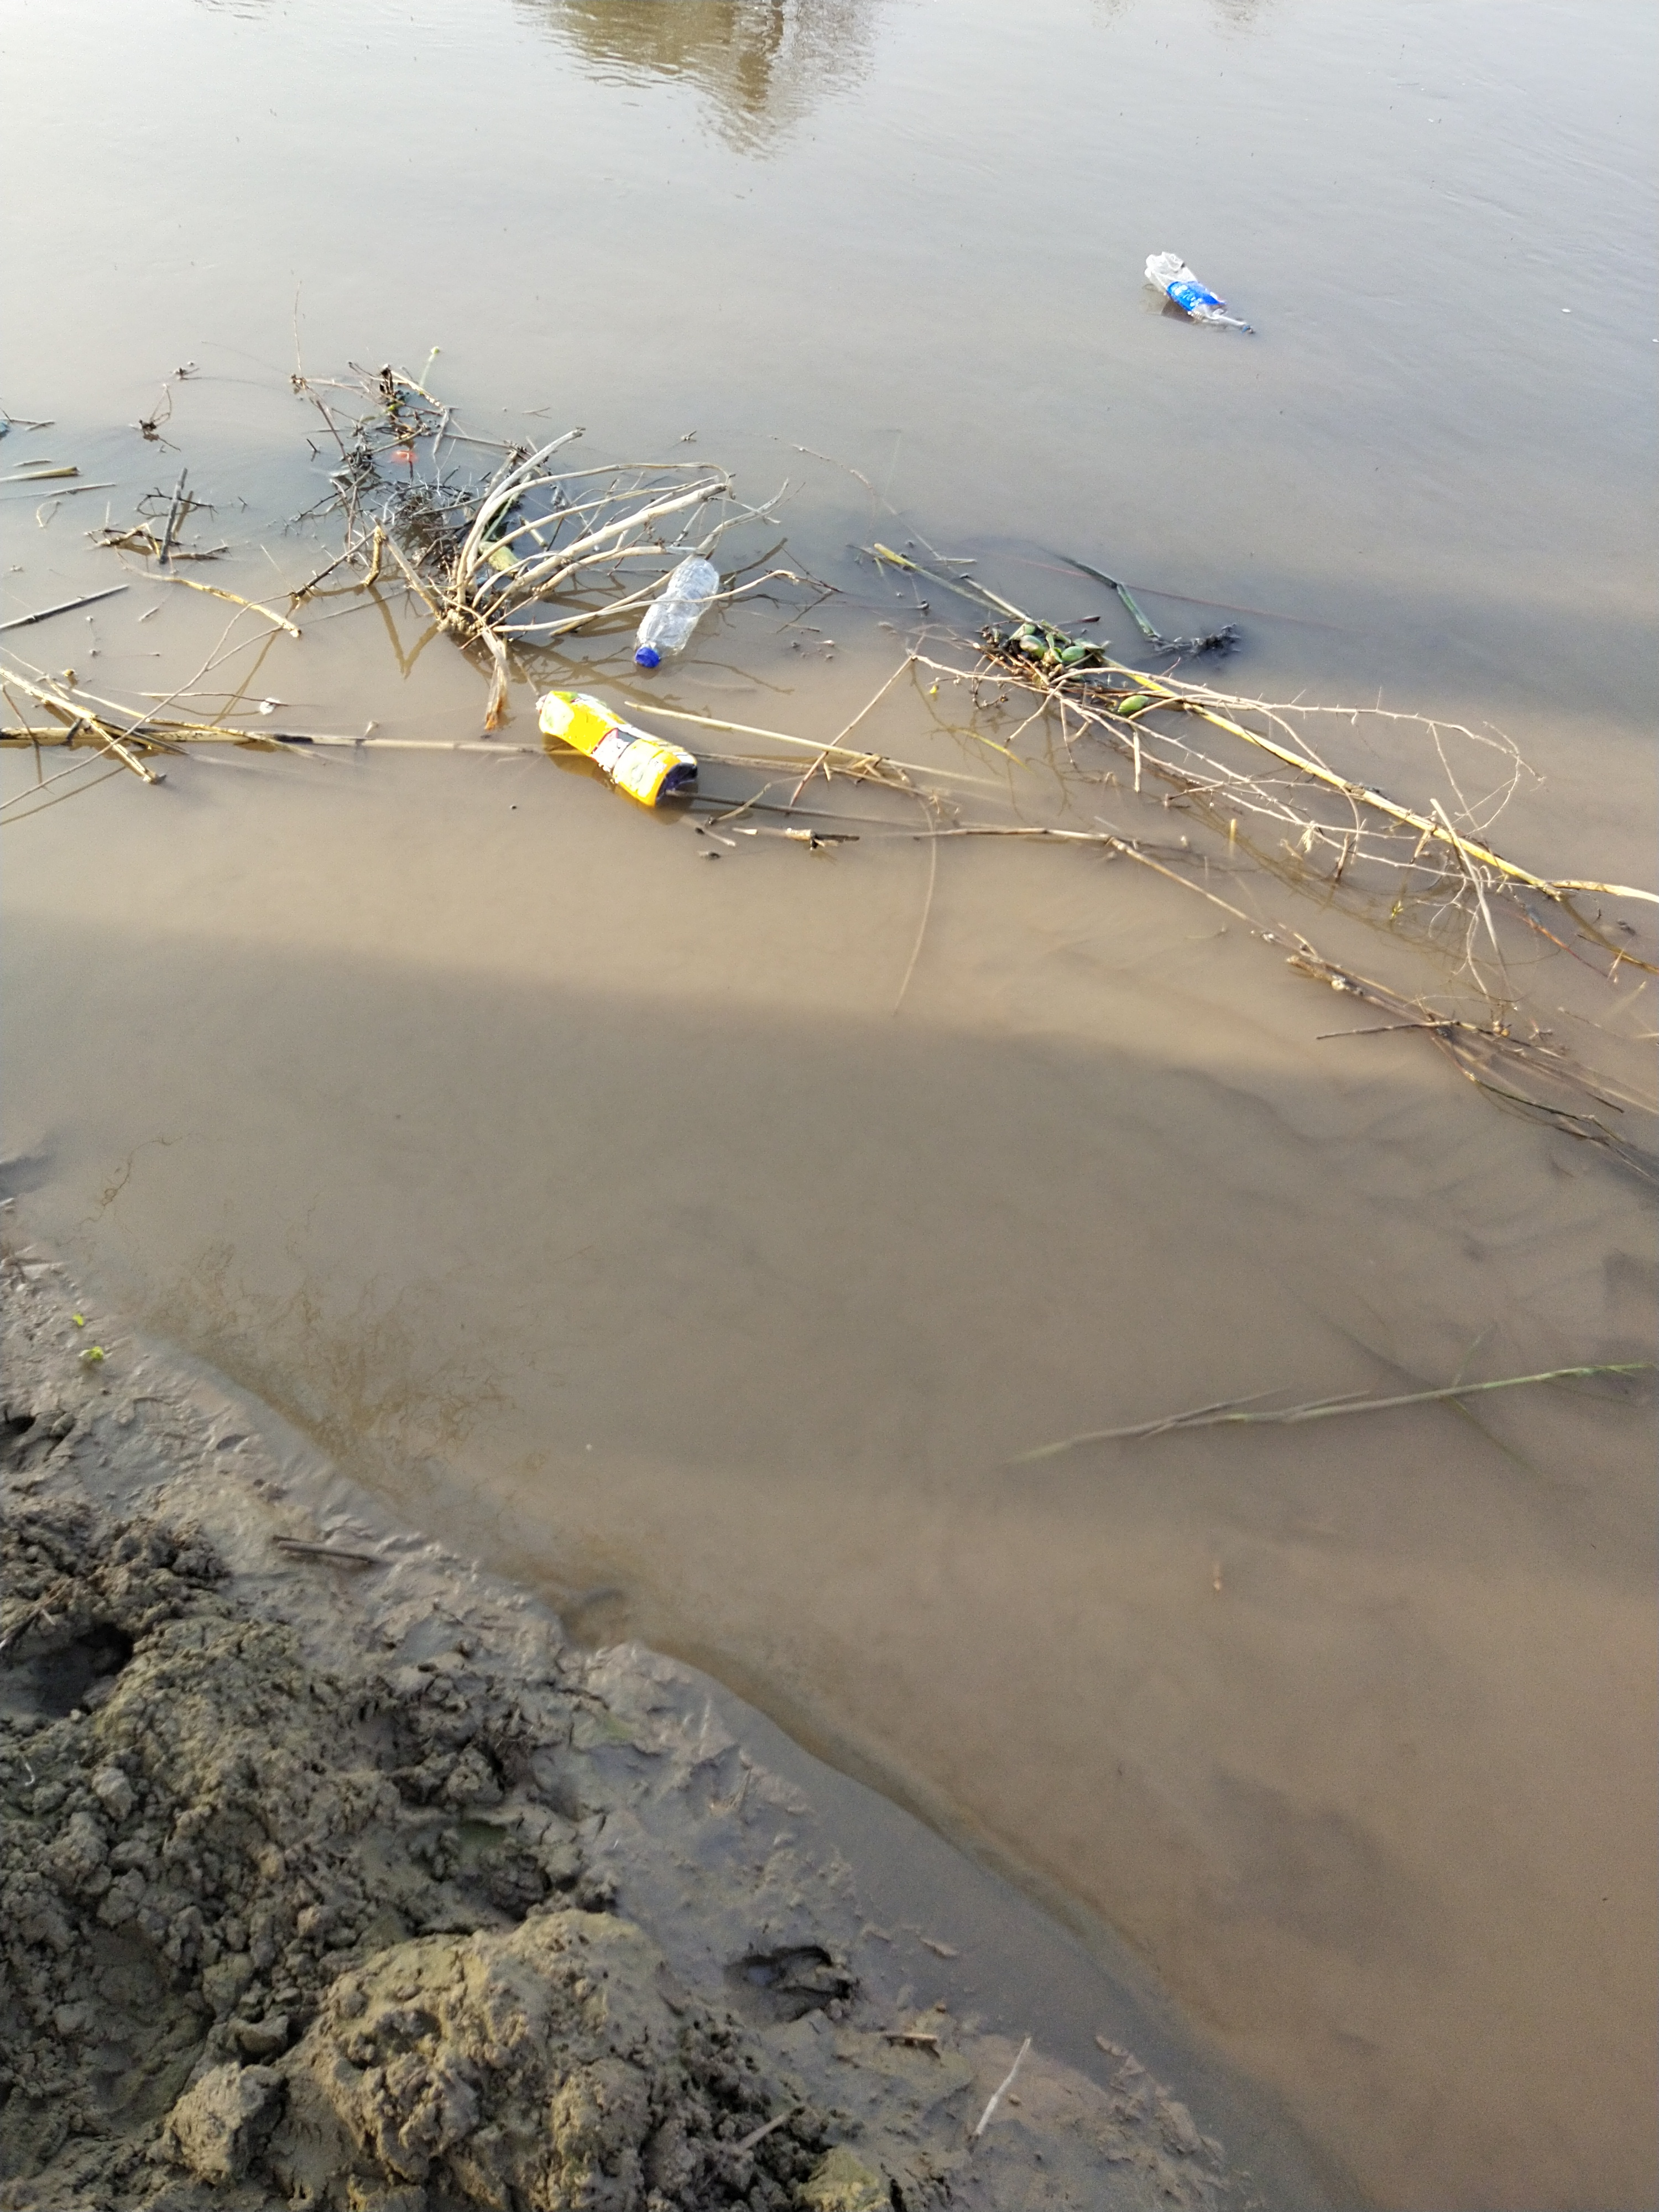Plastic Bottle: (535, 690, 699, 808), (634, 556, 720, 669), (1143, 251, 1251, 333)
